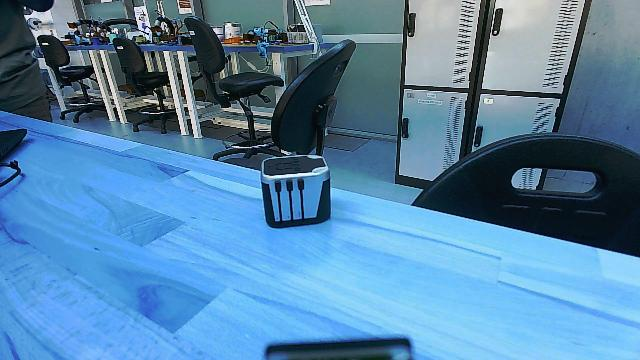adapter: (252, 150, 334, 232)
